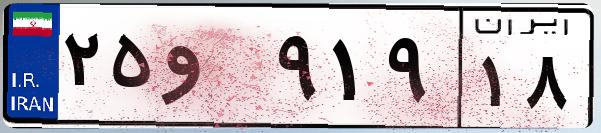1: (330, 28, 385, 110), (475, 38, 525, 113)
2: (57, 26, 110, 100)
5: (110, 28, 158, 98)
8: (525, 38, 570, 115)
9: (270, 28, 330, 110), (385, 28, 445, 110)
و: (158, 20, 270, 120)
